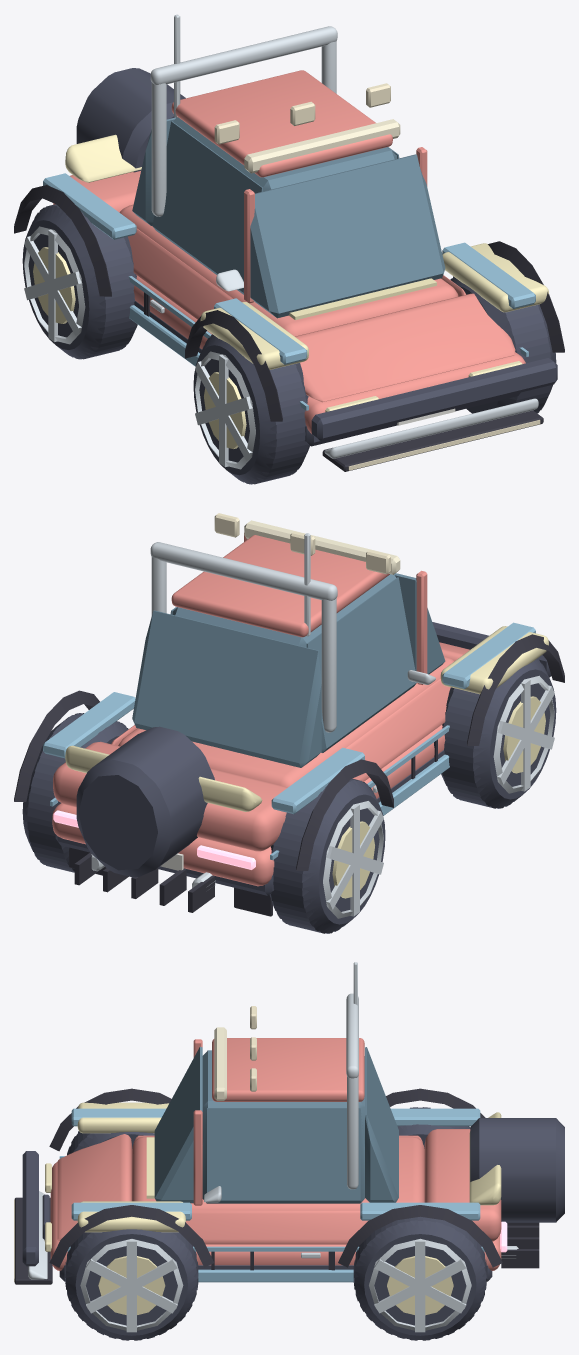
The model's file is dust_comet.fbx.
3 views of the same model, one above another, from view 1: azimuth 30°, elevation 25°; view 2: azimuth 150°, elevation 25°; view 3: azimuth 270°, elevation 25° (orthographic). The views are drawn at different scales.
Parts seen in each view (by area): view 1: Body, Glass, Trim2, Accent2, Trim, Wheel_RR, Accent3, Wheel_FR, Accent, Metal, Wheel_FL, Light (+2 smaller); view 2: Glass, Body, Trim2, Trim, Accent, Wheel_RR, Wheel_FR, Metal, Accent2, Wheel_RL, Accent3, Metal2 (+3 smaller); view 3: Body, Glass, Trim2, Trim, Metal, Wheel_RL, Accent, Wheel_FL, Accent3, Accent2, Metal2, Light4 (+3 smaller).
Part boxes in pixels (<box>): Body: <box>53,70,525,433</box>; Glass: <box>132,117,445,318</box>; Trim2: <box>76,68,557,446</box>; Accent2: <box>150,14,538,458</box>; Trim: <box>14,185,564,471</box>; Wheel_RR: <box>22,204,137,359</box>; Accent3: <box>65,134,548,369</box>; Wheel_FR: <box>193,334,309,484</box>; Accent: <box>43,173,535,410</box>; Metal: <box>24,226,255,469</box>; Wheel_FL: <box>450,276,556,413</box>; Light: <box>214,83,540,470</box>; Glass: <box>132,573,445,767</box>; Body: <box>52,533,469,886</box>; Trim2: <box>55,622,551,895</box>; Trim: <box>14,634,564,916</box>; Accent: <box>43,622,535,860</box>; Wheel_RR: <box>269,778,385,933</box>; Wheel_FR: <box>441,658,556,808</box>; Metal: <box>91,675,554,918</box>; Accent2: <box>150,533,435,732</box>; Wheel_RL: <box>22,713,128,872</box>; Accent3: <box>65,626,548,811</box>; Metal2: <box>332,696,545,898</box>; Body: <box>50,1038,501,1270</box>; Glass: <box>154,1046,398,1203</box>; Trim2: <box>22,1118,564,1281</box>; Trim: <box>14,1088,539,1284</box>; Metal: <box>80,1238,518,1332</box>; Wheel_RL: <box>353,1216,486,1340</box>; Accent: <box>59,1108,484,1282</box>; Wheel_FL: <box>65,1229,198,1340</box>; Accent3: <box>77,1102,501,1232</box>; Accent2: <box>28,962,358,1279</box>; Metal2: <box>98,1256,453,1315</box>; Light4: <box>214,1027,226,1100</box>.
Size of the model in its own units: 3.11 by 3.39 by 5.75.
